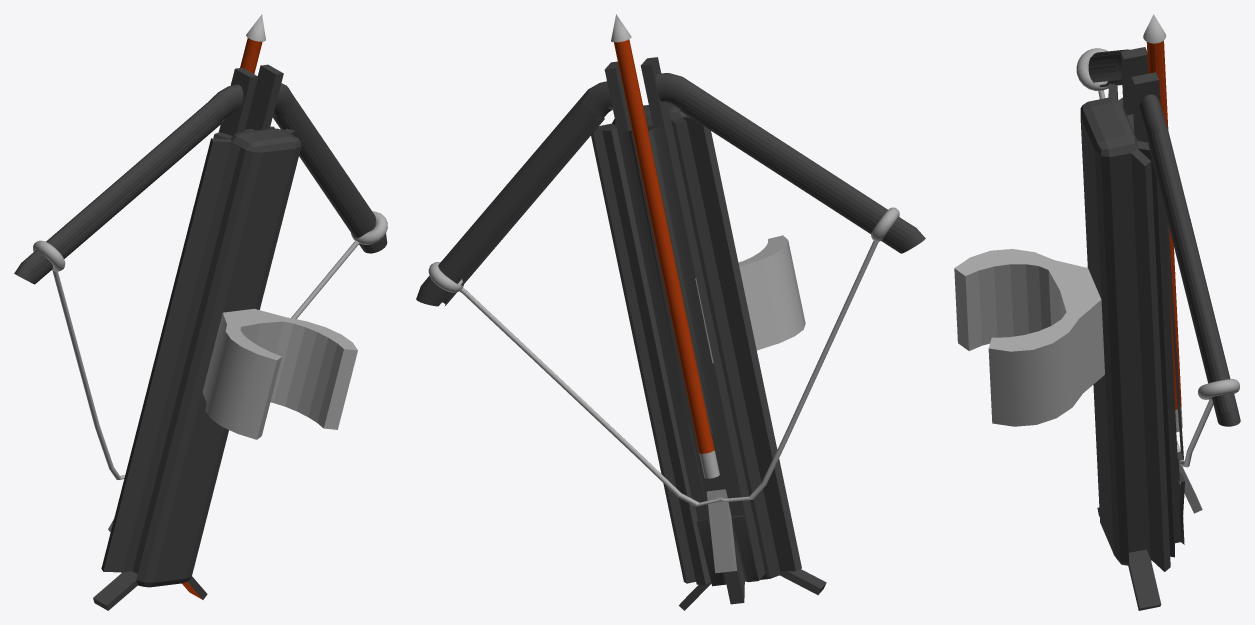
Rendered from HangAnimation.fbx.
3 renders of one model, left to right at view 1: azimuth 30°, elevation 25°; view 2: azimuth 150°, elevation 25°; view 3: azimuth 270°, elevation 25°, orthographic. The views are drawn at different scales.
Parts seen in each view (by area): view 1: Crossbow; view 2: Crossbow; view 3: Crossbow.
Part boxes in pixels (box(x1,y1,x2,y2)): Crossbow: box(14, 14, 387, 610); Crossbow: box(416, 14, 925, 610); Crossbow: box(954, 14, 1240, 610).
Size of the model in its own units: 38.73 by 48.3 by 19.81.
